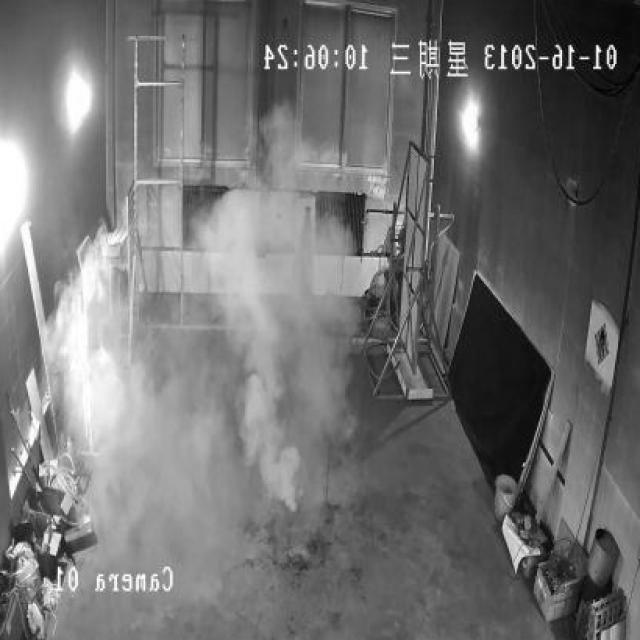fire: (184, 106, 362, 515), (72, 299, 162, 455)
